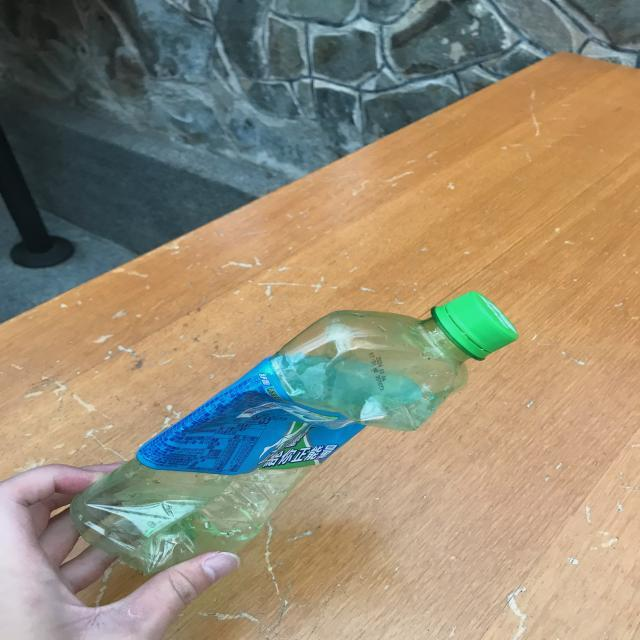plastic_bottle: (70, 291, 518, 576)
